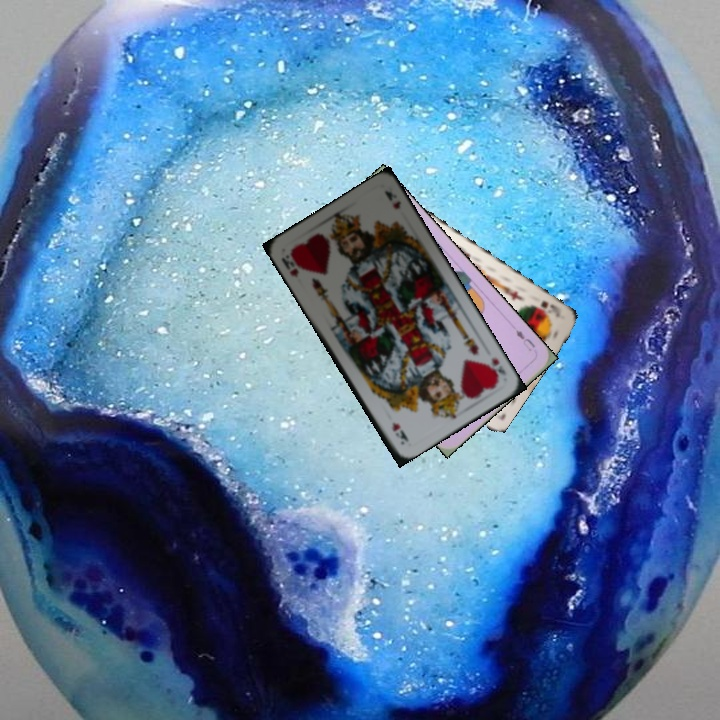EU: (512, 325, 538, 354)
HK: (483, 354, 509, 384), (277, 251, 301, 280)
SK: (528, 297, 564, 316)
